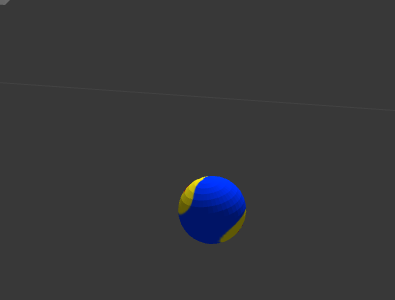toy story ball: (178, 176, 247, 244)
